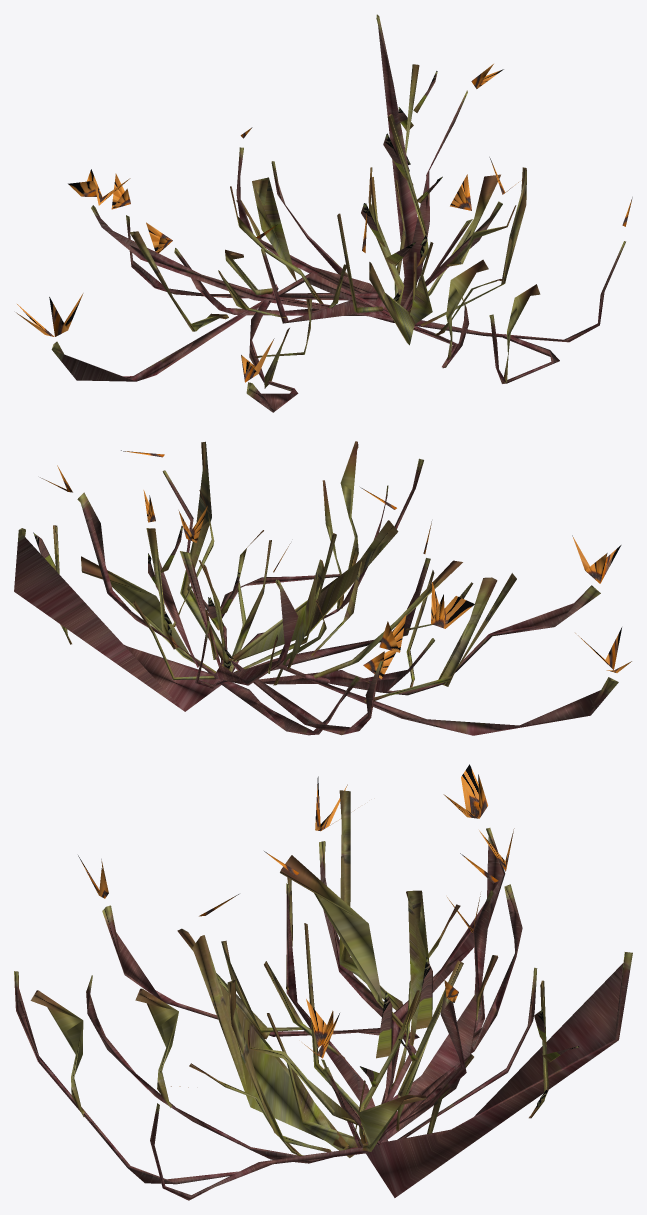
Rendered from flower_b.glb.
The picture shows the model from 3 angles, top to bottom: view 1: azimuth 30°, elevation 25°; view 2: azimuth 150°, elevation 25°; view 3: azimuth 270°, elevation 25°; orthographic projection. The views are drawn at different scales.
Parts seen in each view (by area): view 1: flower_ursinia_a_LOD0; view 2: flower_ursinia_a_LOD0; view 3: flower_ursinia_a_LOD0.
Boxes of the visible parts, bbox=[...] form: flower_ursinia_a_LOD0: bbox=[16, 14, 632, 412]; flower_ursinia_a_LOD0: bbox=[14, 441, 631, 735]; flower_ursinia_a_LOD0: bbox=[14, 764, 632, 1200].
Size of the model in its own units: 0.3698 by 0.1469 by 0.2904.
1 material, 1 textured.
